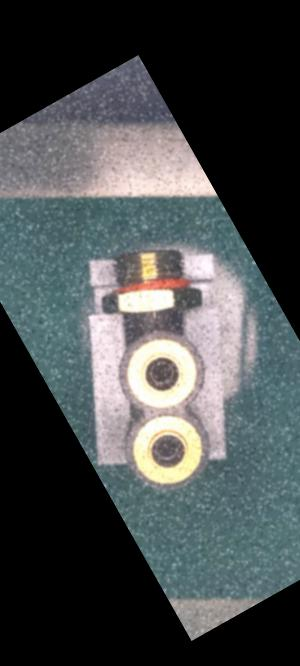craze: (144, 305, 166, 332)
